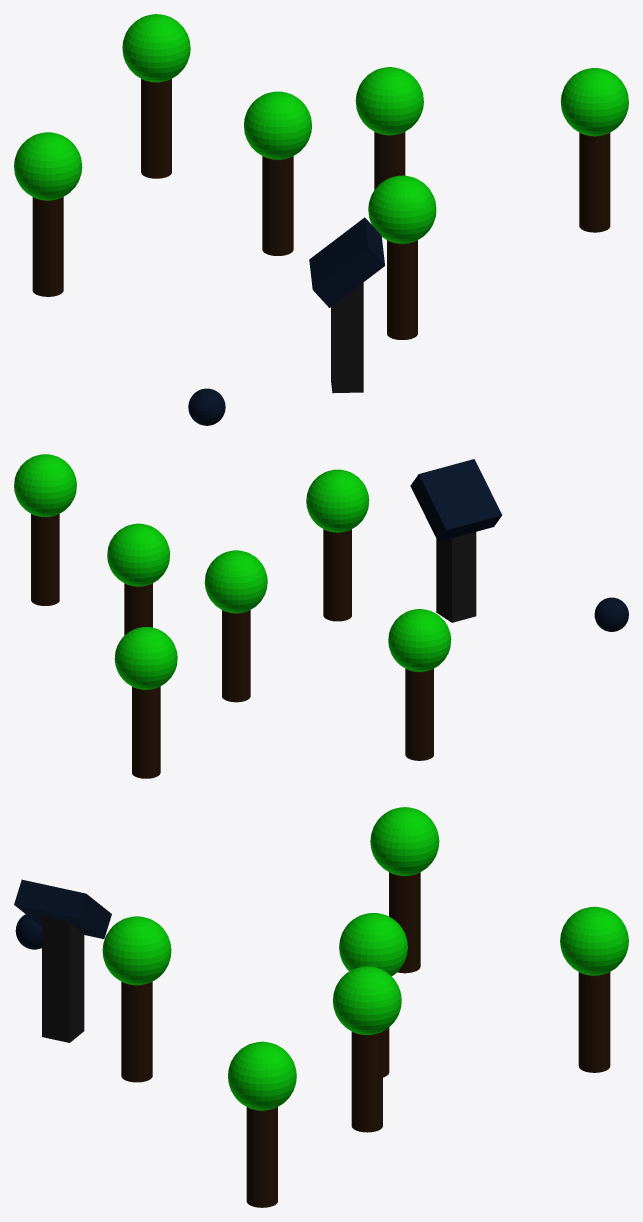
Rendered from exercise20088.obj.
3 views of the same model, one above another, from view 1: azimuth 30°, elevation 25°; view 2: azimuth 150°, elevation 25°; view 3: azimuth 270°, elevation 25° (orthographic). The views are drawn at different scales.
Visible parts, largest first — view 1: Cube.001, Sphere.005, Sphere.003, Sphere, Sphere.006, Sphere.002, Sphere.004, Cube, Cylinder.002, Cylinder.003, Cylinder.006, Cylinder.004 (+4 smaller); view 2: Cube.001, Cube, Sphere.002, Sphere, Sphere.004, Sphere.005, Sphere.006, Sphere.003, Cylinder.004, Cylinder.005, Cylinder.002, Cylinder.006 (+3 smaller); view 3: Cube, Sphere.004, Sphere.005, Sphere.006, Sphere.003, Sphere, Sphere.002, Cube.001, Cylinder.005, Cylinder.004, Cylinder.003, Cylinder (+3 smaller).
Part boxes in pixels (x1,y1,x2,y2): Cube.001: (309,217,384,307); Sphere.005: (122,14,190,82); Sphere.003: (560,68,628,136); Sphere: (355,67,423,135); Sphere.006: (14,132,82,200); Sphere.002: (244,91,311,159); Sphere.004: (368,175,436,243); Cube: (331,282,363,393); Cylinder.002: (262,156,293,255); Cylinder.003: (579,132,610,232); Cylinder.006: (32,197,63,296); Cylinder.004: (387,240,417,339); Cube.001: (410,459,502,541); Cube: (436,532,476,622); Sphere.002: (204,550,267,613); Sphere: (107,523,169,586); Sphere.004: (306,469,369,532); Sphere.005: (114,627,177,689); Sphere.006: (388,609,451,671); Sphere.003: (14,454,76,516); Cylinder.004: (323,529,351,621); Cylinder.005: (132,686,160,778); Cylinder.002: (222,610,250,702); Cylinder.006: (405,668,433,760); Cube: (42,916,84,1042); Sphere.004: (102,916,171,985); Sphere.005: (560,906,628,975); Sphere.006: (370,807,439,875); Sphere.003: (228,1041,296,1110); Sphere: (333,966,401,1034); Sphere.002: (339,913,407,976); Cube.001: (14,879,111,938); Cylinder.005: (578,972,610,1072); Cylinder.004: (121,981,152,1082); Cylinder.003: (246,1107,277,1207); Cylinder: (351,1031,382,1132).
Size of what is drawn, in the model's own units: 40.53 by 11.23 by 39.13.
